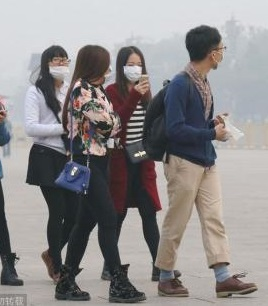person: (143, 21, 262, 299), (52, 43, 148, 303), (103, 42, 172, 288), (21, 42, 83, 288), (1, 101, 26, 286)
